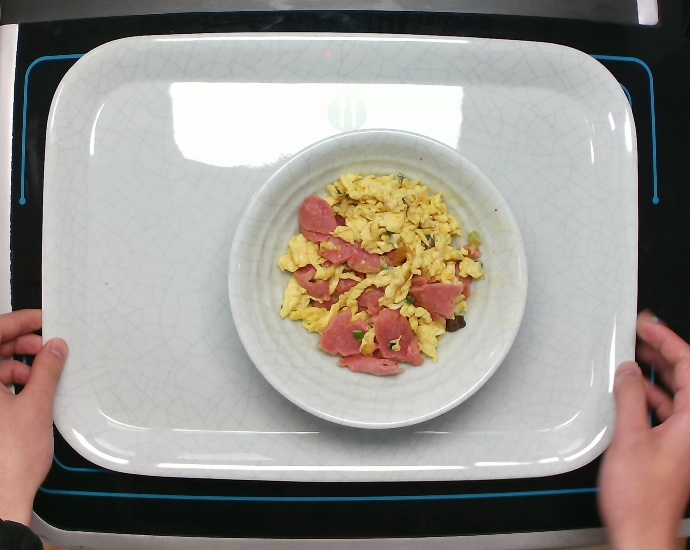JYsf-Xiao_Tang_Wan: (224, 126, 530, 431)
